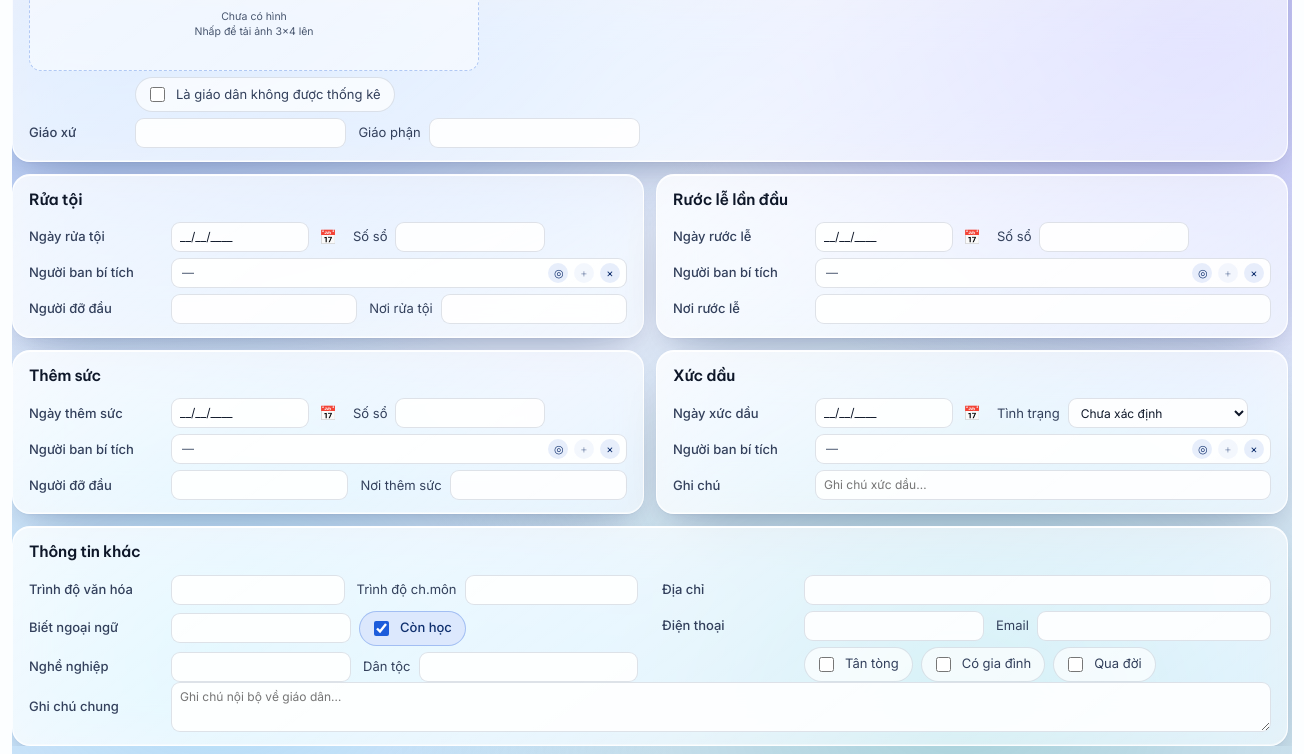
Test: GiaoDanDetail › tick Qua doi thi tu bo tick Con hoc
(page scrolled)
Check: the checkbox labelled "Còn học" is checked, box x1=374 y1=620 x2=389 y2=636
Click the checkbox labelled "Qua đời". click: (1076, 664)
box: x1=1068 y1=656 x2=1083 y2=672
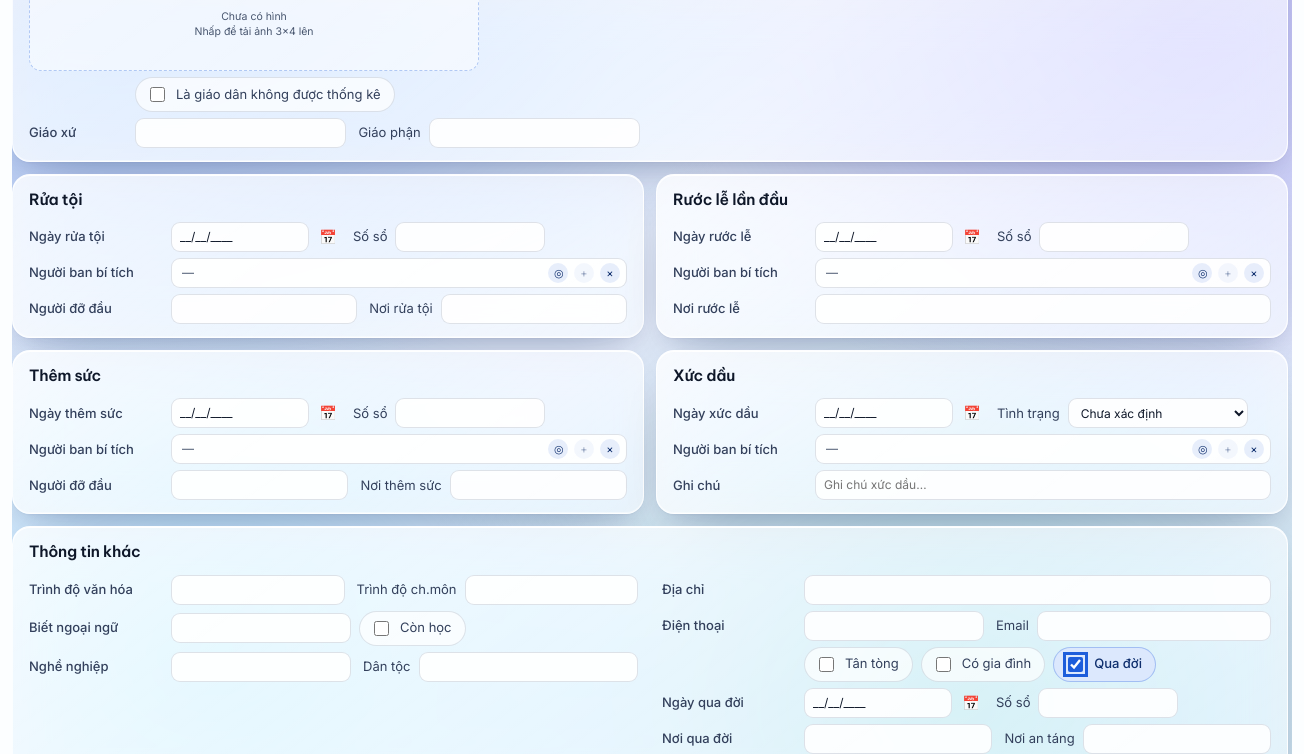
Check: the checkbox labelled "Còn học" is not checked, box x1=374 y1=620 x2=389 y2=636
